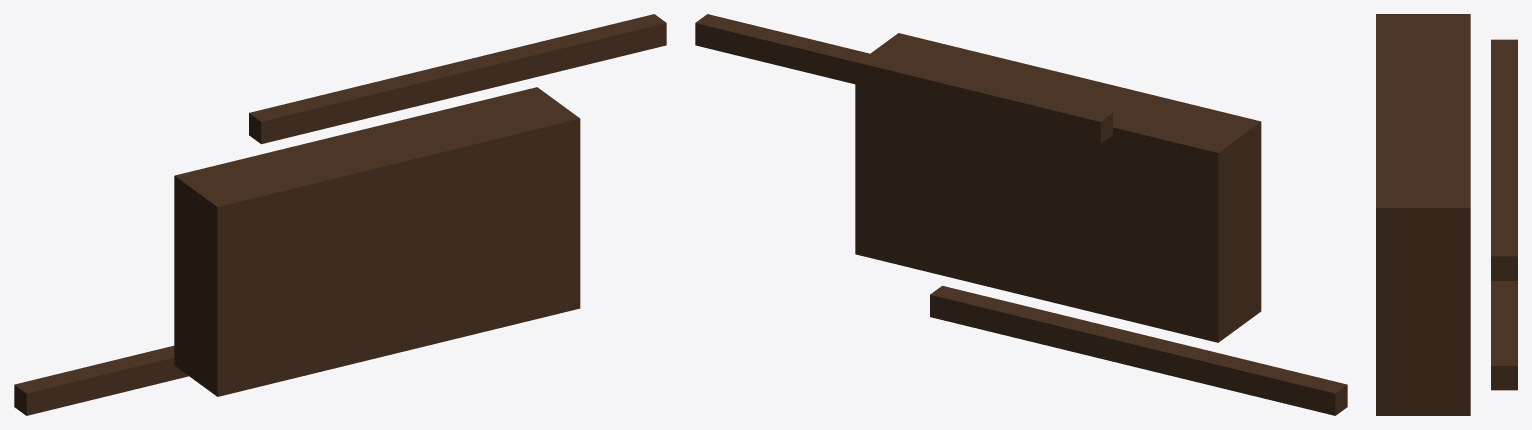
Rendered from SM_RoadSupplySled.obj.
3 views of the same model, side by side, from view 1: azimuth 30°, elevation 25°; view 2: azimuth 150°, elevation 25°; view 3: azimuth 270°, elevation 25° (orthographic). The views are drawn at different scales.
Visible parts, largest first — view 1: SM_RoadSupplySled; view 2: SM_RoadSupplySled; view 3: SM_RoadSupplySled.
Part boxes in pixels (bbox=[...]): SM_RoadSupplySled: bbox=[14, 14, 666, 415]; SM_RoadSupplySled: bbox=[695, 14, 1347, 415]; SM_RoadSupplySled: bbox=[1376, 14, 1517, 415].
Bounding box in the file's own units: 300 × 106 × 52.5.
